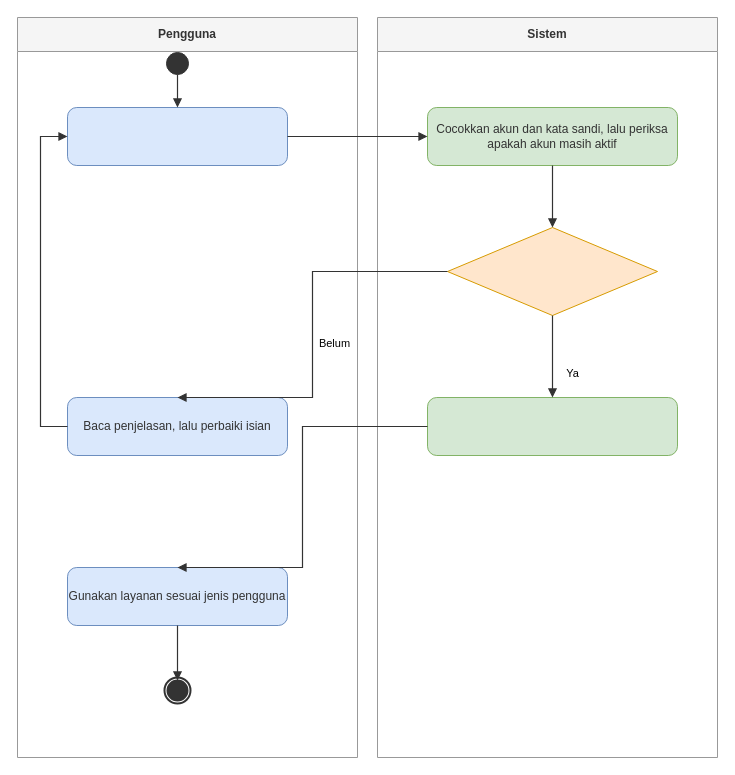
This 735x775 diagram has some shape labels left out. The shapes that lost their labels are listed below. From the top down, each one's box as (x1, y1, x2, y2) in pixels, then its label:
(66, 106, 288, 166): Isi nama pengguna atau email serta kata sandi
(446, 226, 658, 316): Akun sesuai dan masih aktif?
(426, 396, 678, 456): Simpan waktu masuk dan buka halaman utama
